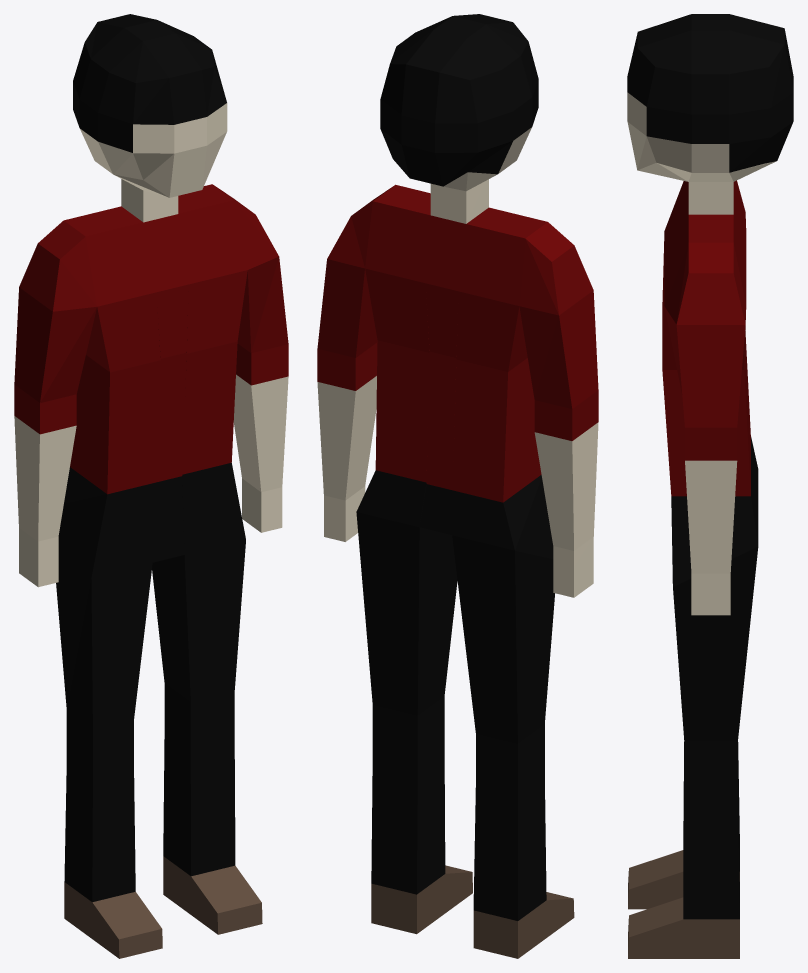
File: MainTemporary.fbx
The picture shows the model from 3 angles, left to right: view 1: azimuth 30°, elevation 25°; view 2: azimuth 150°, elevation 25°; view 3: azimuth 270°, elevation 25°; orthographic projection. The views are drawn at different scales.
Visible parts, largest first — view 1: NPC; view 2: NPC; view 3: NPC.
Boxes of the visible parts, x1,y1,x2,y2 form: NPC: (14, 14, 288, 958); NPC: (317, 14, 598, 958); NPC: (627, 14, 793, 958).
Size of the model in its own units: 1.27 by 4.3 by 0.7184.
